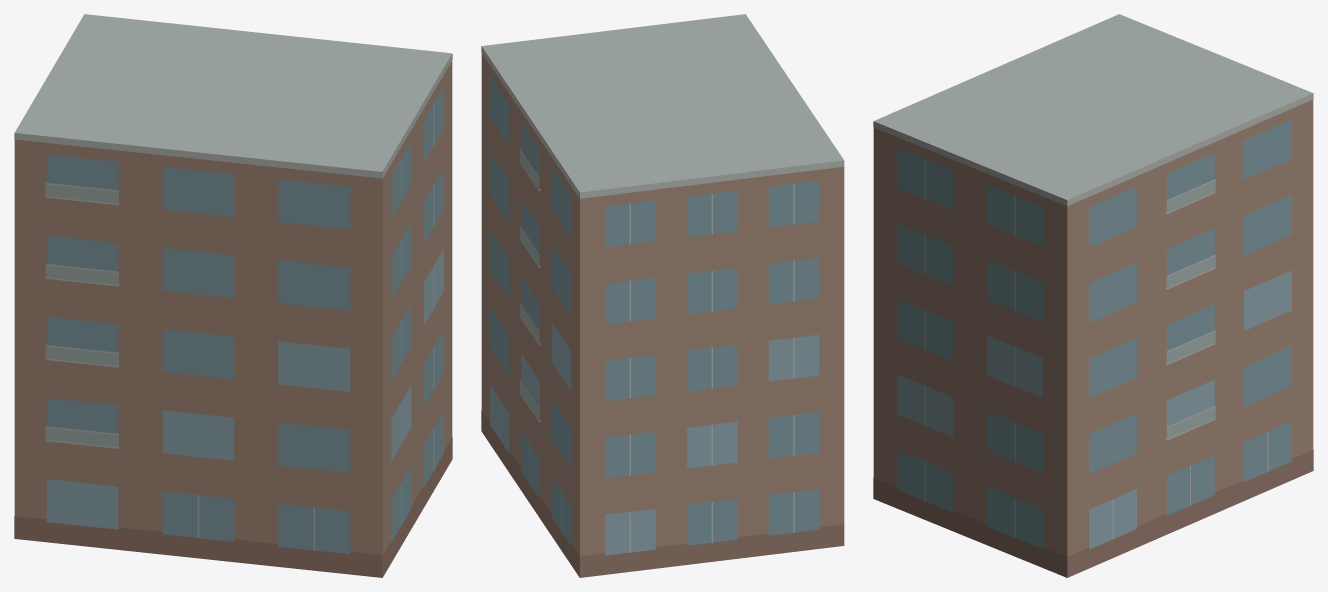
File: survey-upis-32968684.glb
3 views of the same model, side by side, from view 1: azimuth 30°, elevation 25°; view 2: azimuth 150°, elevation 25°; view 3: azimuth 270°, elevation 25° (orthographic). The views are drawn at different scales.
Parts seen in each view (by area): view 1: survey-upis-32968684.tmp; view 2: survey-upis-32968684.tmp; view 3: survey-upis-32968684.tmp.
Boxes of the visible parts, box(x1,y1,x2,y2) form: survey-upis-32968684.tmp: box(14, 14, 452, 577); survey-upis-32968684.tmp: box(481, 14, 844, 577); survey-upis-32968684.tmp: box(873, 14, 1313, 577).
Bounding box in the file's own units: 15.87 × 15 × 15.84.
